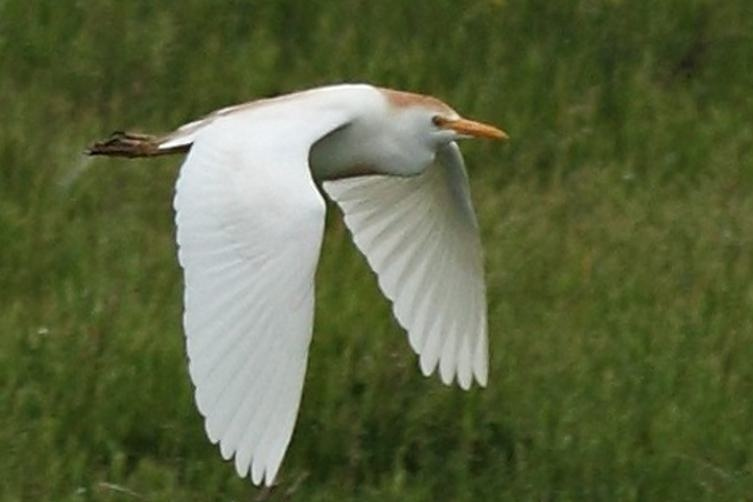egret: (68, 66, 531, 483)
